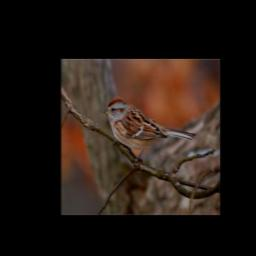Sparrow: (102, 97, 196, 167)
